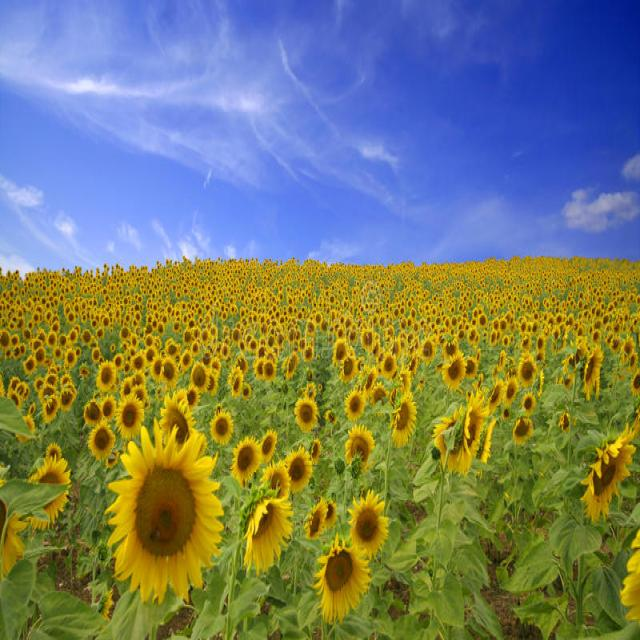sunflower: (104, 417, 226, 601), (307, 539, 383, 626), (238, 480, 297, 587), (584, 419, 636, 518), (342, 482, 391, 560), (27, 452, 73, 528), (457, 380, 483, 471), (233, 432, 262, 492), (282, 444, 316, 494), (392, 394, 422, 449), (114, 390, 146, 440), (345, 422, 373, 476), (89, 417, 118, 465), (440, 347, 469, 392), (585, 347, 607, 405), (291, 390, 317, 431), (510, 414, 540, 446), (339, 388, 366, 421), (188, 362, 212, 396), (516, 352, 536, 391), (489, 375, 505, 422), (282, 346, 301, 384), (159, 351, 178, 384), (359, 324, 378, 356), (333, 332, 348, 368), (130, 349, 151, 372), (96, 357, 112, 387), (43, 390, 57, 424), (228, 373, 246, 399), (58, 383, 76, 408), (419, 337, 436, 362), (381, 357, 398, 380), (24, 352, 38, 376), (302, 344, 316, 364), (64, 346, 78, 365), (478, 310, 489, 328)
